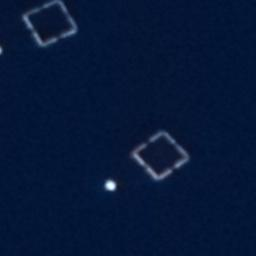square_solid: (124, 123, 195, 189), (19, 1, 83, 52)
